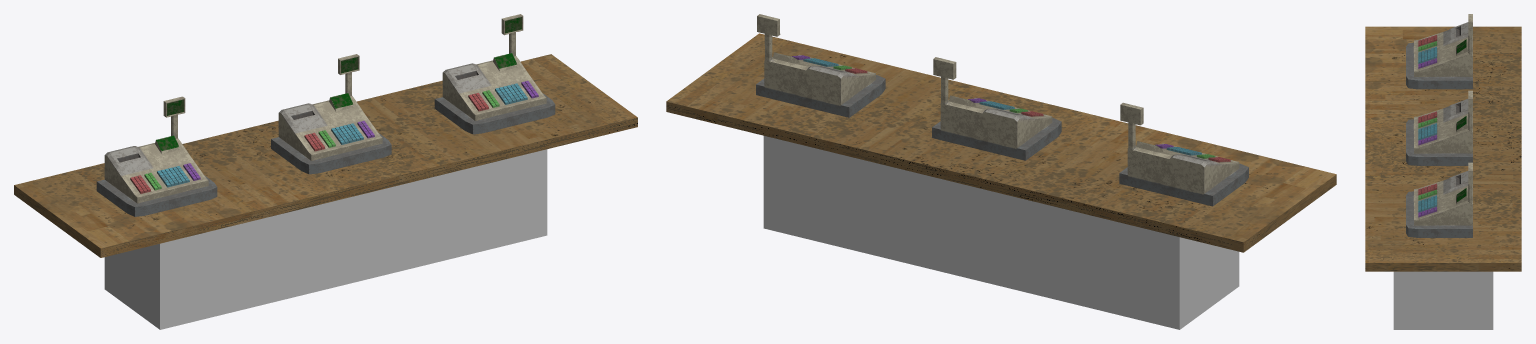
File: Regitradora_mesa.fbx
3 renders of one model, left to right at view 1: azimuth 30°, elevation 25°; view 2: azimuth 150°, elevation 25°; view 3: azimuth 270°, elevation 25°, orthographic. The views are drawn at different scales.
Parts seen in each view (by area): view 1: mesa.001, Cube.001, Cube.003, Cube.002; view 2: mesa.001, Cube.001, Cube.002, Cube.003; view 3: mesa.001, Cube.001, Cube.003, Cube.002.
Boxes of the visible parts, bbox=[...] form: mesa.001: bbox=[14, 54, 637, 329]; Cube.001: bbox=[96, 96, 217, 216]; Cube.003: bbox=[434, 14, 555, 134]; Cube.002: bbox=[271, 54, 391, 174]; mesa.001: bbox=[666, 33, 1336, 329]; Cube.001: bbox=[1119, 102, 1248, 206]; Cube.002: bbox=[932, 57, 1061, 160]; Cube.003: bbox=[756, 14, 885, 117]; mesa.001: bbox=[1365, 26, 1521, 329]; Cube.001: bbox=[1406, 14, 1472, 89]; Cube.003: bbox=[1406, 162, 1472, 237]; Cube.002: bbox=[1406, 90, 1472, 165].
Size of the model in its own units: 2000 by 658 by 558.
